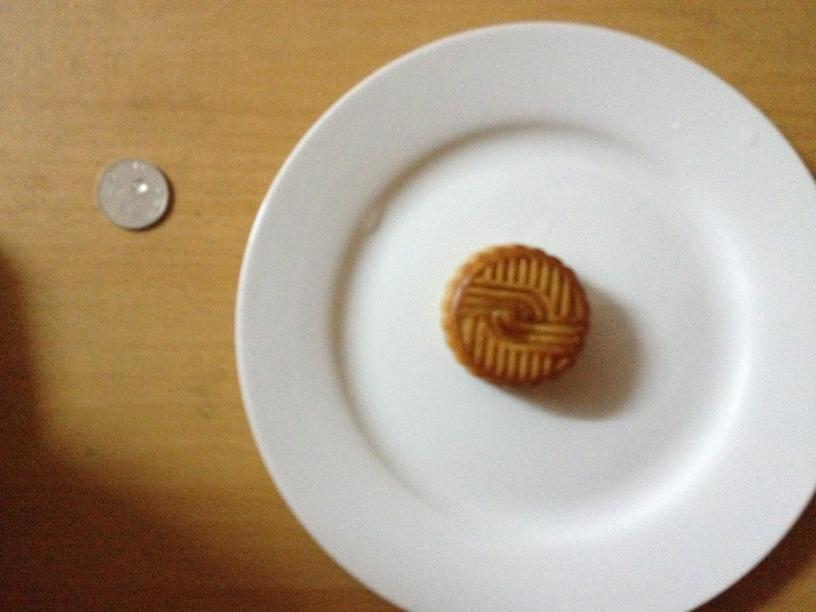coin: (97, 159, 169, 231)
mooncake: (439, 244, 590, 388)
